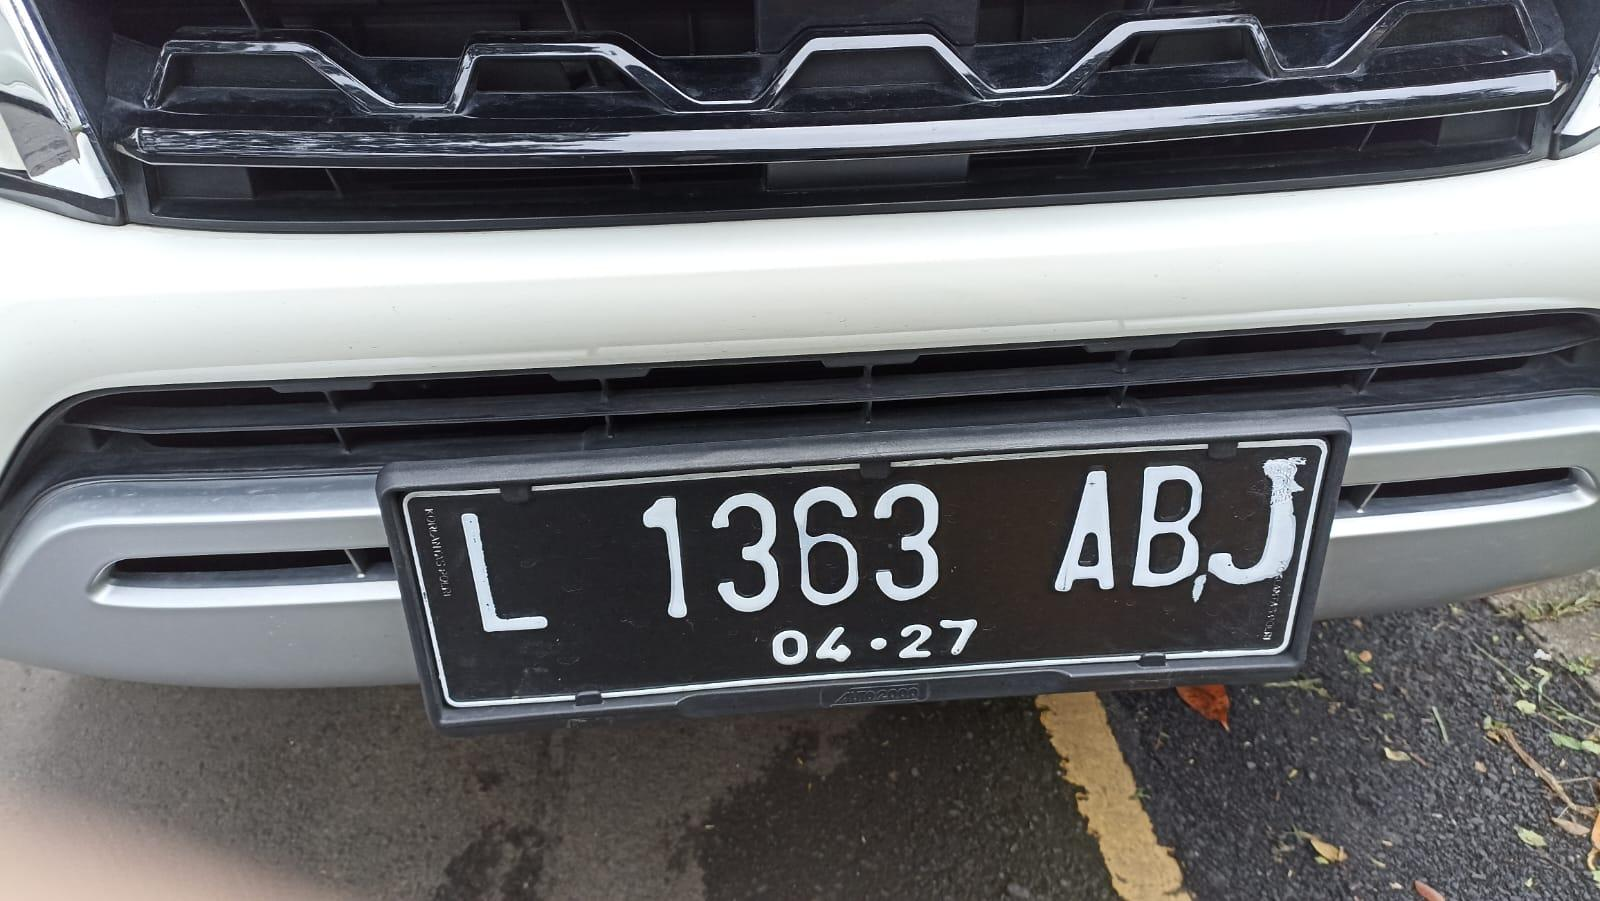plat: (378, 412, 1349, 732)
